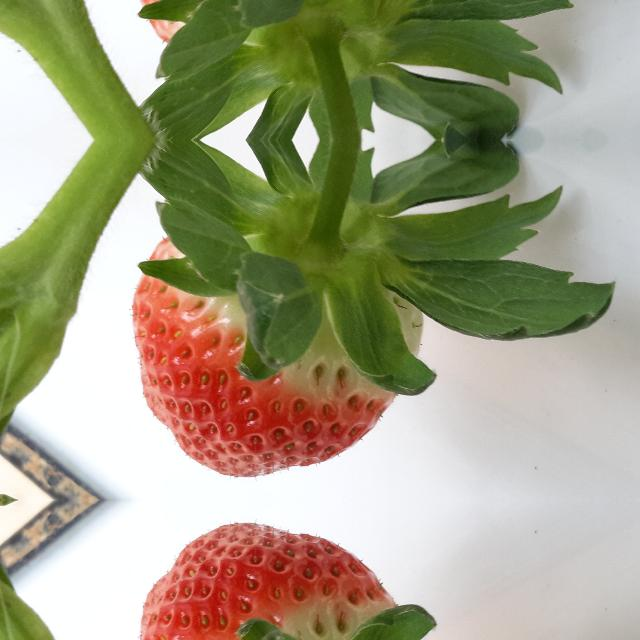Health_100: (130, 238, 422, 477), (129, 523, 422, 640)
